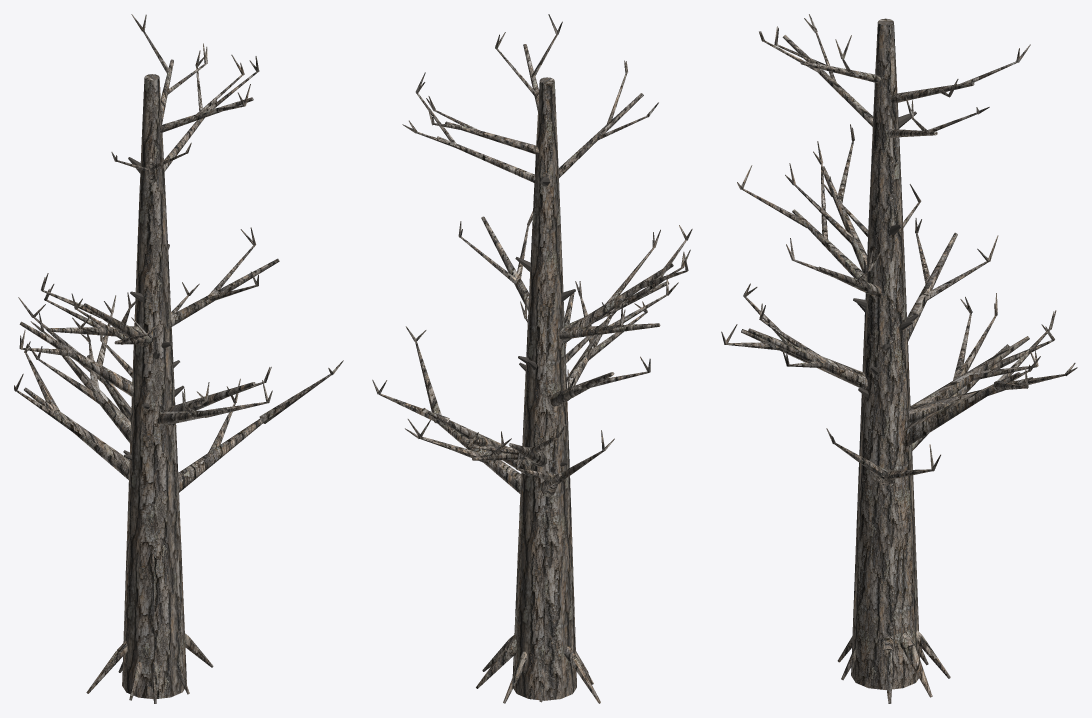
Rendered from tall-burnt-pine-v02.glb.
3 views of the same model, side by side, from view 1: azimuth 30°, elevation 25°; view 2: azimuth 150°, elevation 25°; view 3: azimuth 270°, elevation 25° (orthographic). The views are drawn at different scales.
Parts seen in each view (by area): view 1: dead-tree-burnt; view 2: dead-tree-burnt; view 3: dead-tree-burnt.
Part boxes in pixels (box(x1,y1,x2,y2)): dead-tree-burnt: box(14, 14, 343, 703); dead-tree-burnt: box(372, 14, 692, 703); dead-tree-burnt: box(721, 14, 1077, 703).
Bounding box in the file's own units: 4.69 × 9.59 × 4.61.
2 materials, 1 textured.
